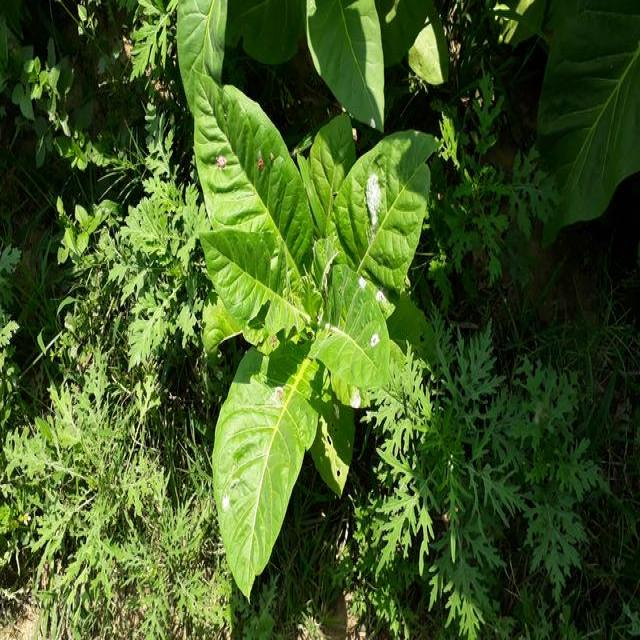crop: (188, 81, 437, 592)
